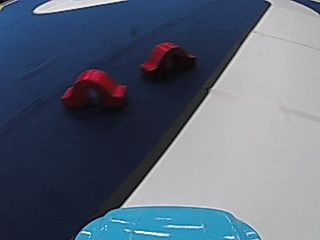bridge: (58, 66, 130, 111), (138, 38, 195, 80)
